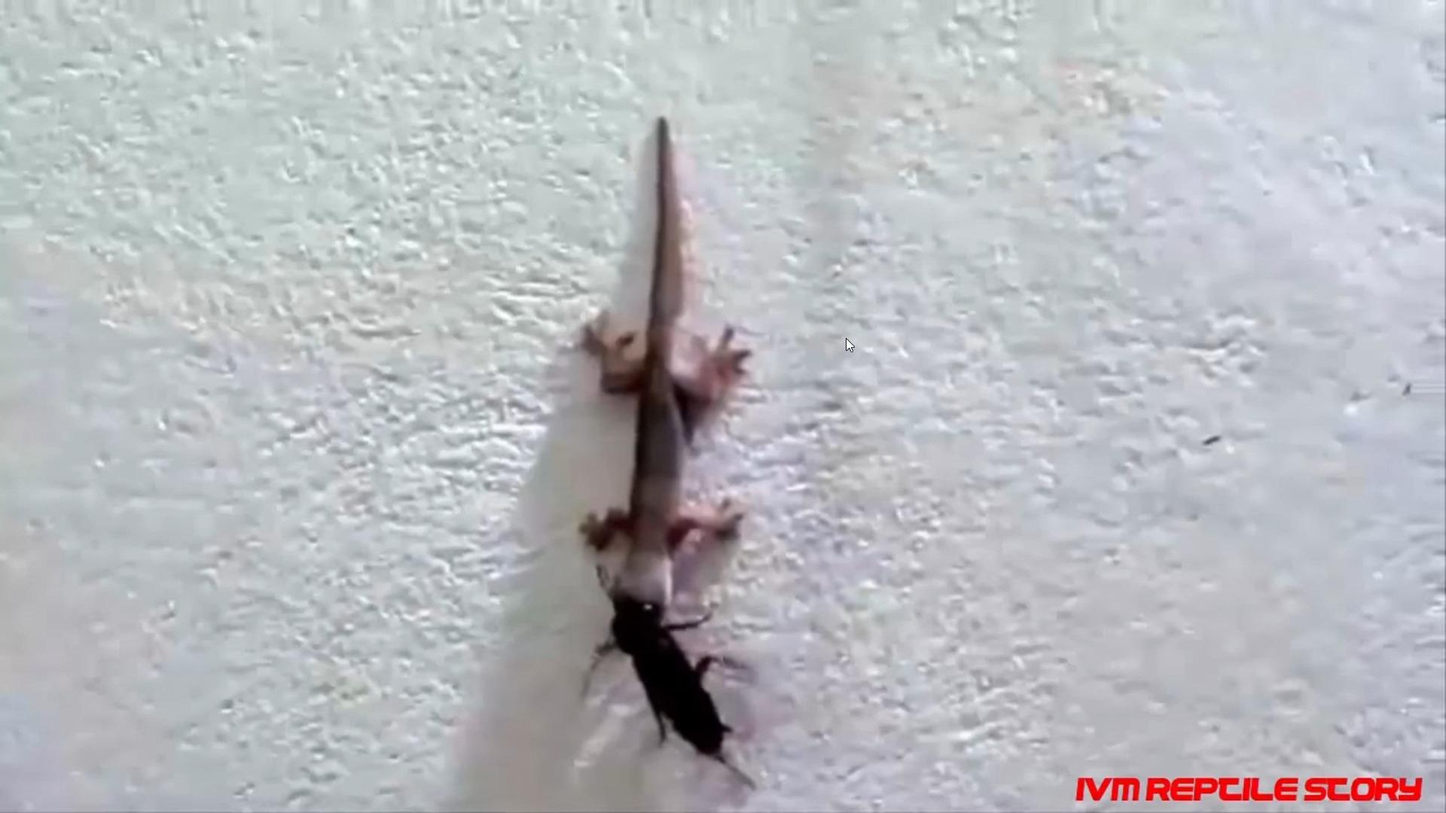cockroach: (593, 588, 728, 773)
lizard: (576, 141, 754, 606)
